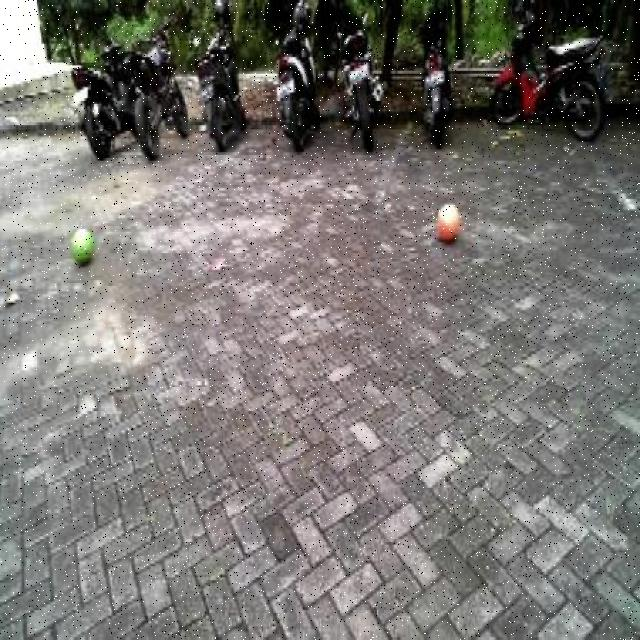buoy: (67, 219, 99, 275), (433, 193, 463, 250)
